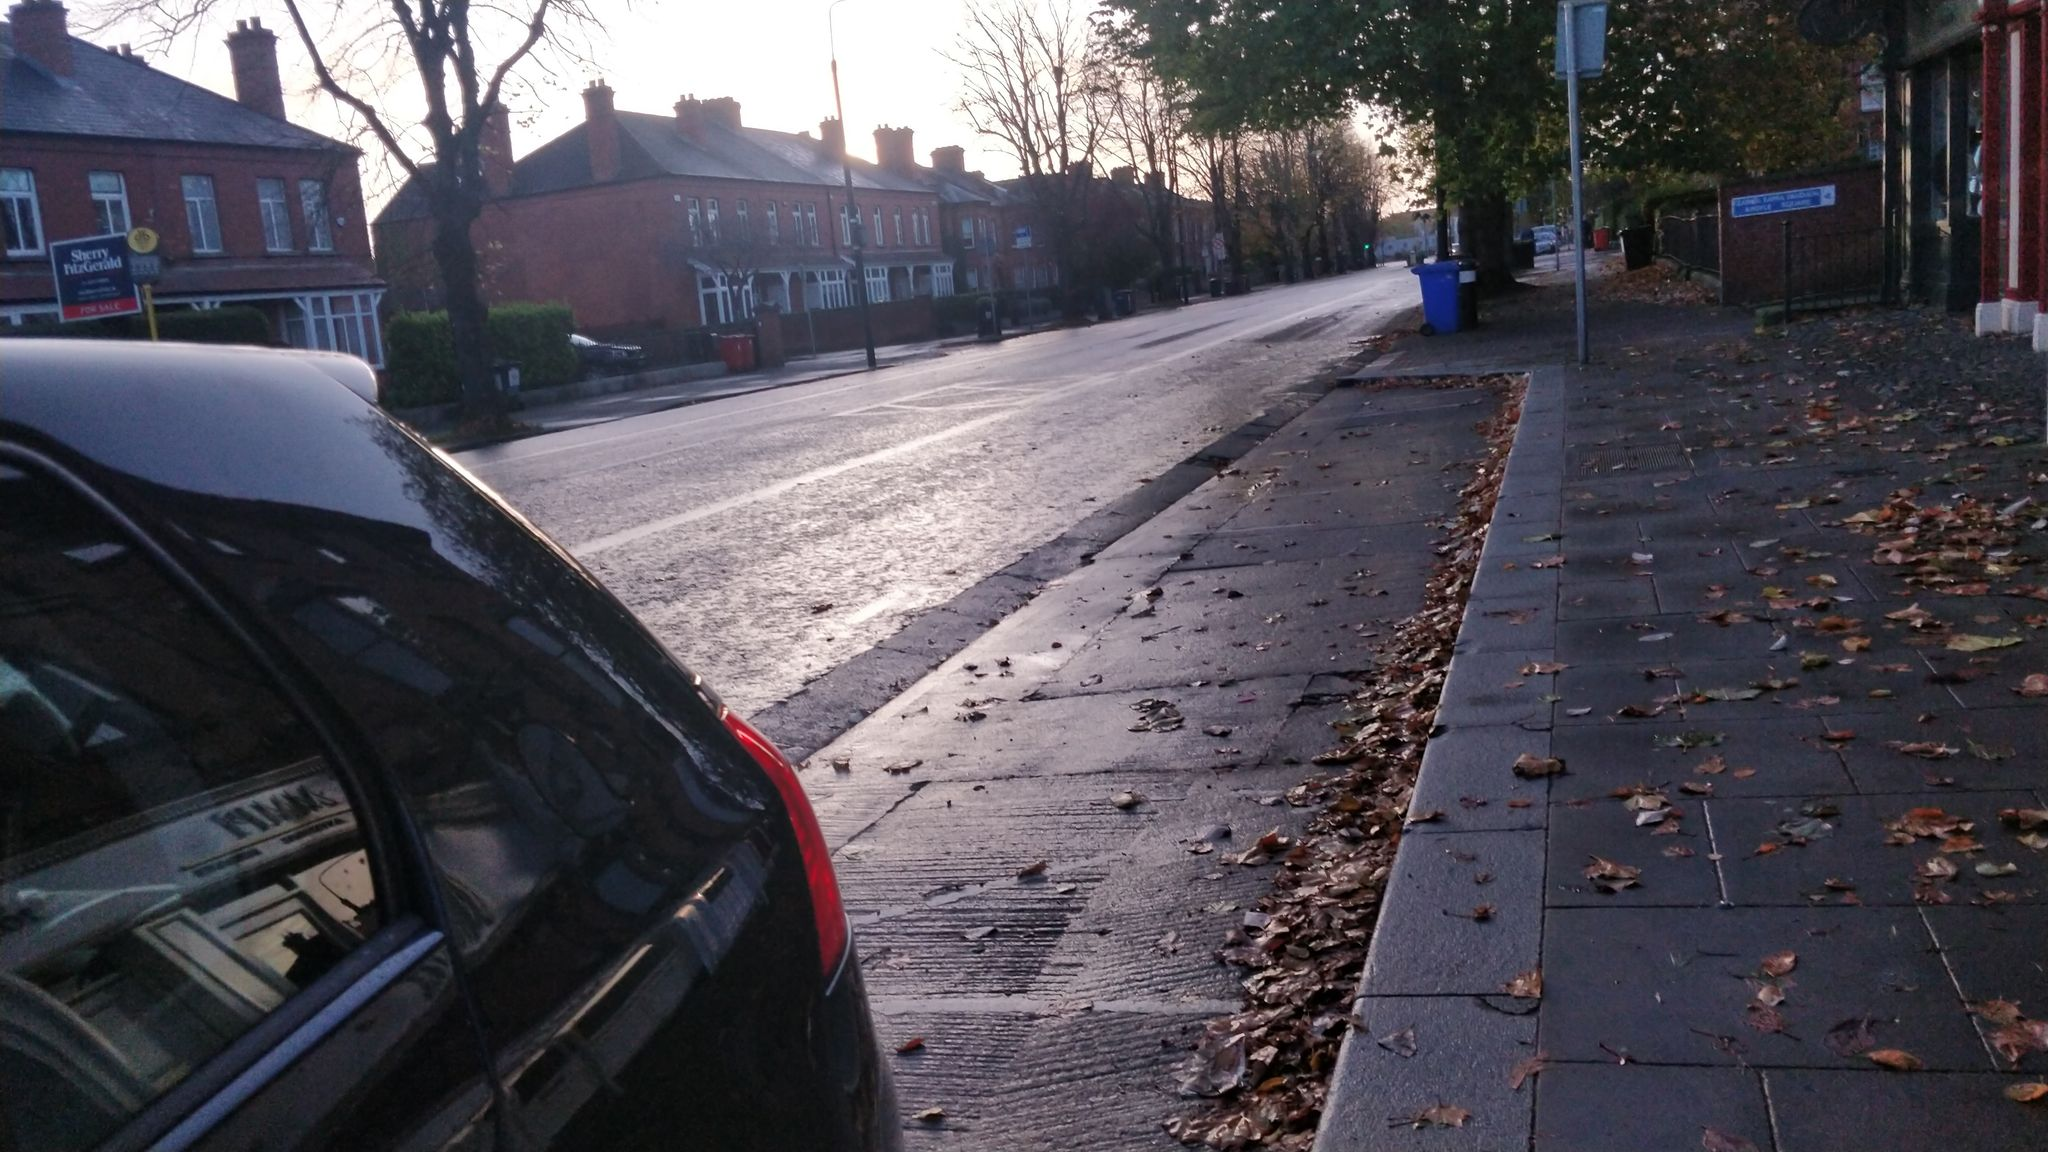property sign: (30, 218, 160, 331)
